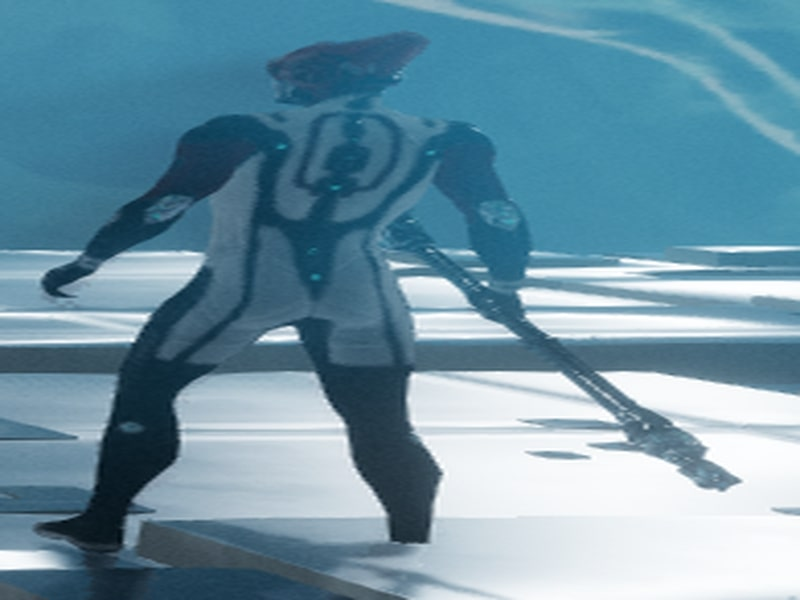corpus: (38, 26, 753, 568)
